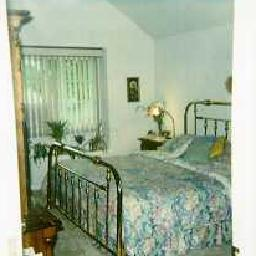Armario: (9, 16, 57, 253)
Cama: (59, 138, 211, 251)
Ventana: (24, 48, 105, 138)
